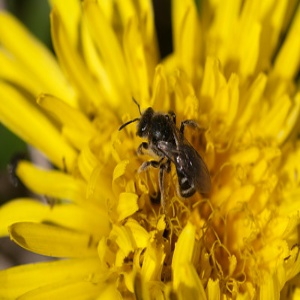bee: (118, 95, 212, 206)
